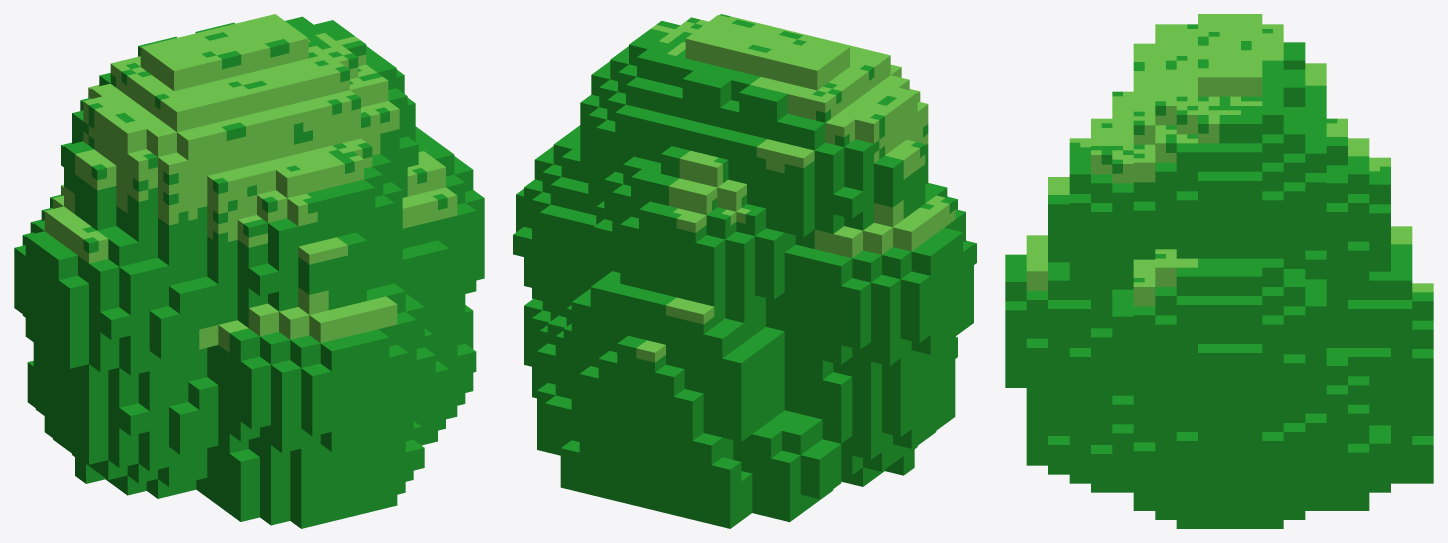
File: bush.obj
The picture shows the model from 3 angles, left to right: view 1: azimuth 30°, elevation 25°; view 2: azimuth 150°, elevation 25°; view 3: azimuth 270°, elevation 25°; orthographic projection. The views are drawn at different scales.
Bounding box in the file's own units: 4.4 × 4 × 4.
1 material, 1 textured.
